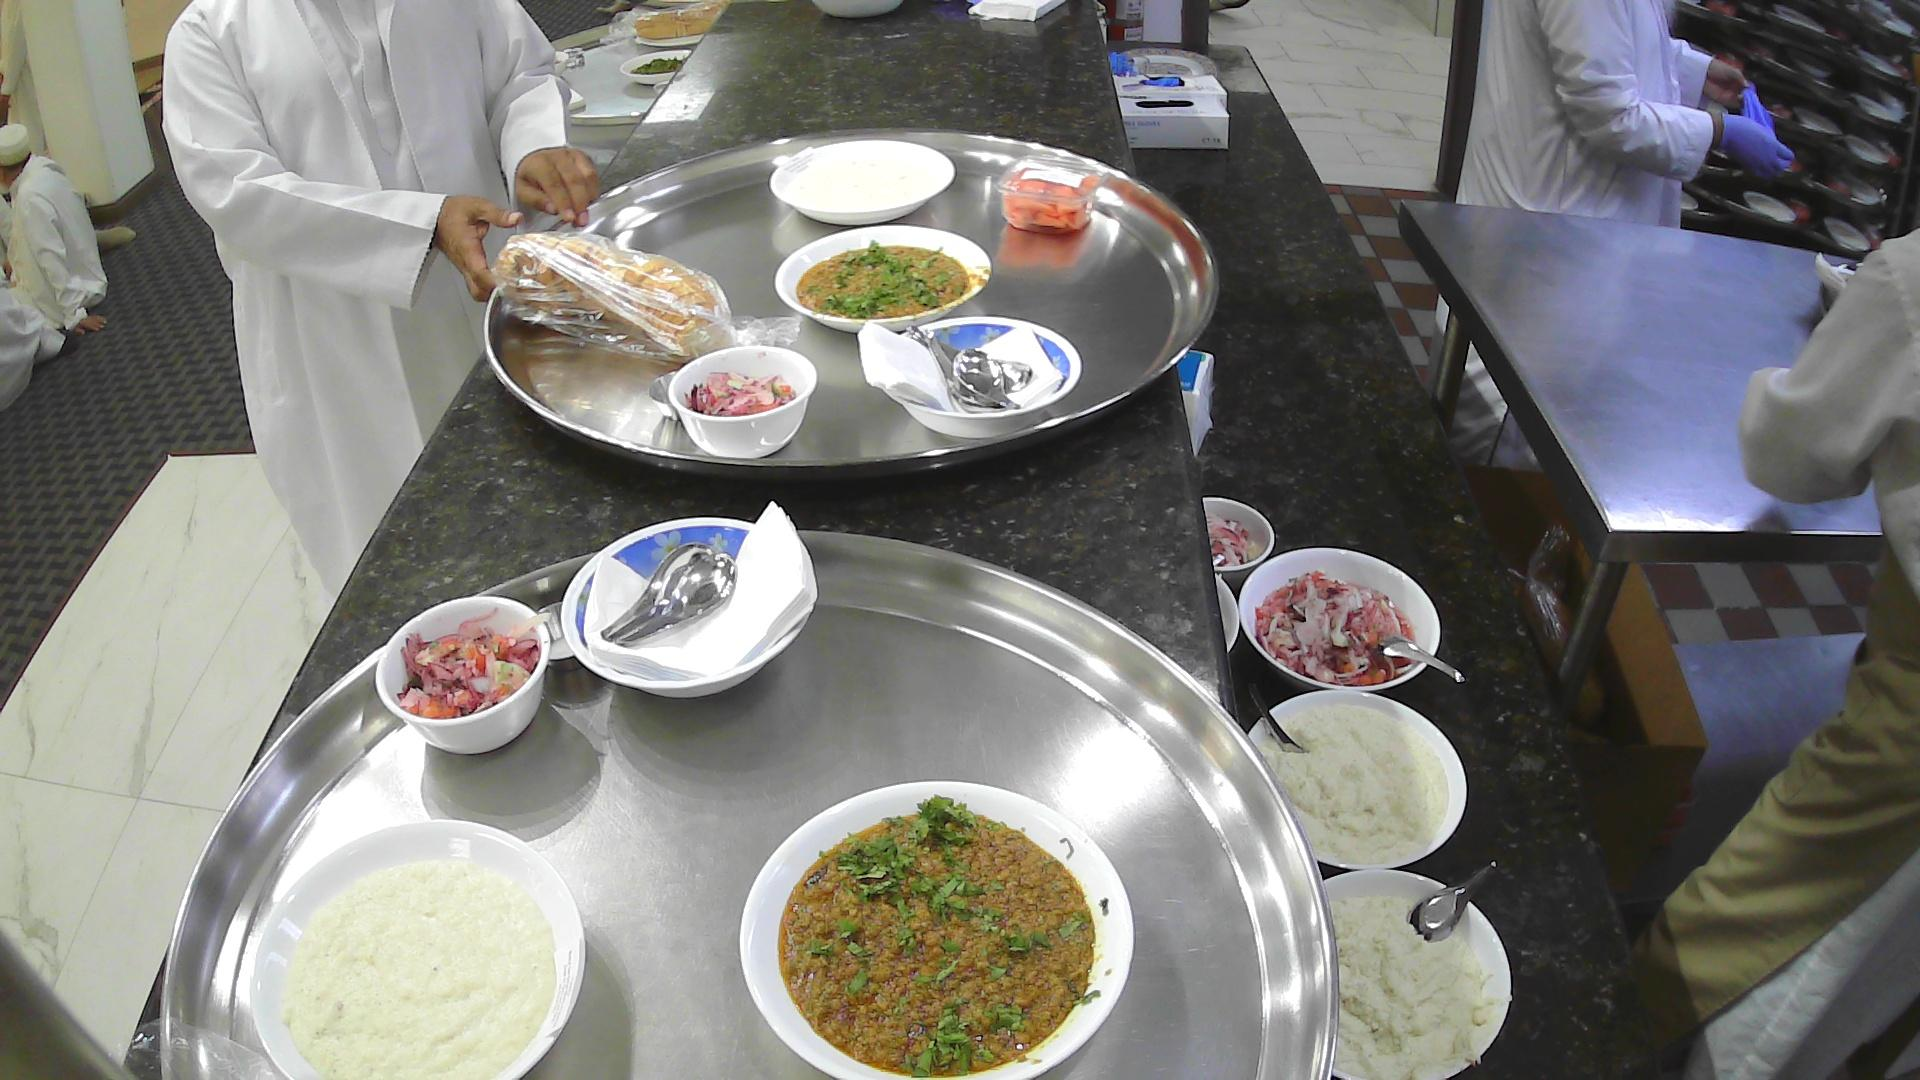thaal: (158, 525, 1340, 1080), (480, 124, 1224, 493)
